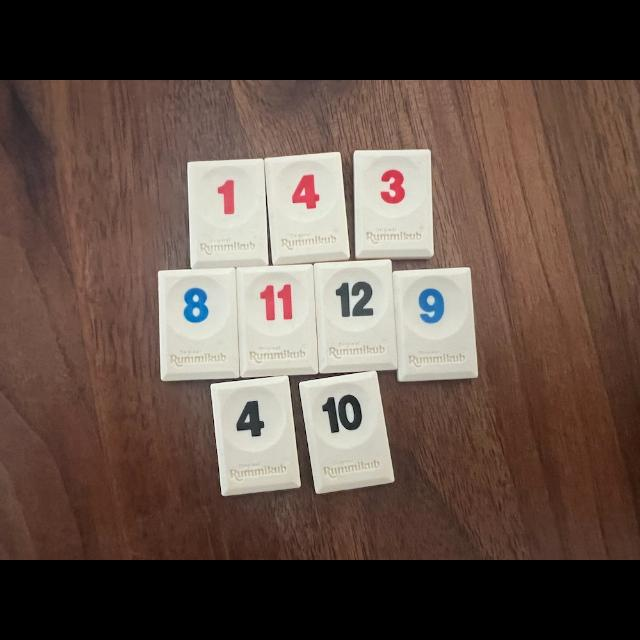black_10: (299, 371, 394, 494)
black_12: (314, 260, 398, 374)
black_4: (211, 376, 300, 496)
blue_8: (159, 268, 240, 381)
blue_9: (394, 268, 477, 381)
red_1: (188, 159, 269, 268)
red_11: (236, 266, 319, 378)
red_3: (354, 151, 434, 259)
red_4: (265, 153, 350, 265)
